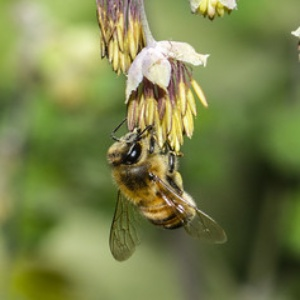bee: (105, 115, 229, 268)
